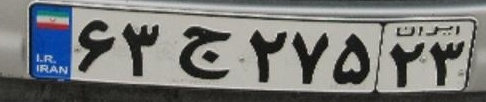character: (172, 19, 233, 86), (118, 15, 163, 80), (73, 12, 118, 76), (246, 24, 288, 84), (331, 27, 372, 87), (291, 26, 330, 87), (429, 37, 467, 92), (387, 37, 426, 90)
